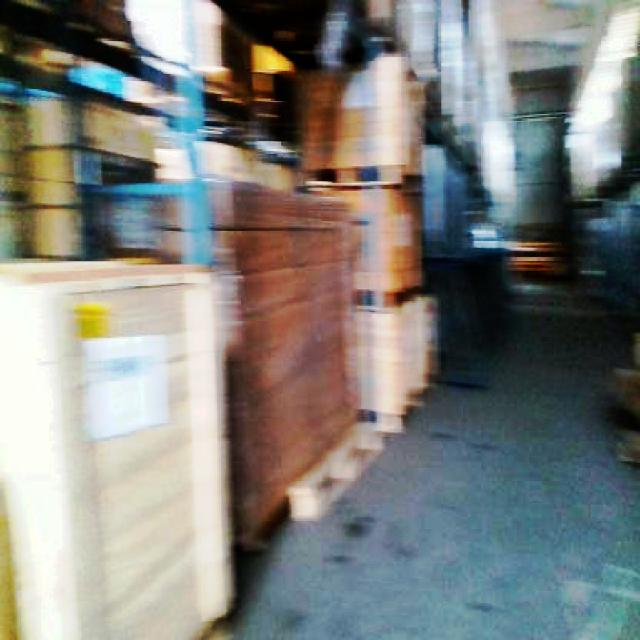ground: (194, 265, 638, 638)
pallet: (82, 172, 368, 552), (0, 254, 237, 638), (291, 52, 438, 434), (609, 325, 638, 475), (502, 238, 574, 280)
